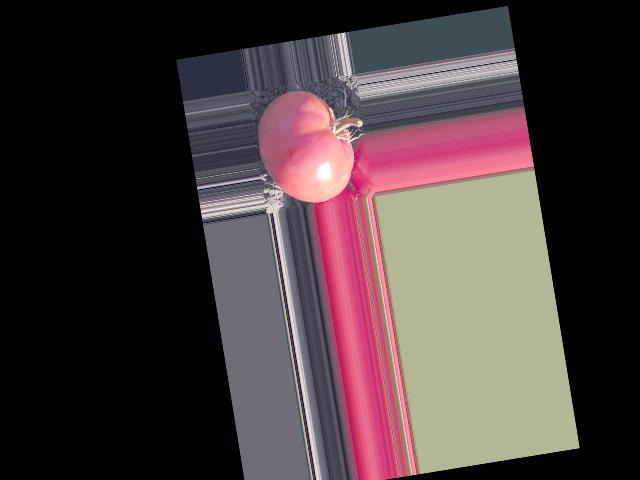tomato: (251, 83, 359, 210)
